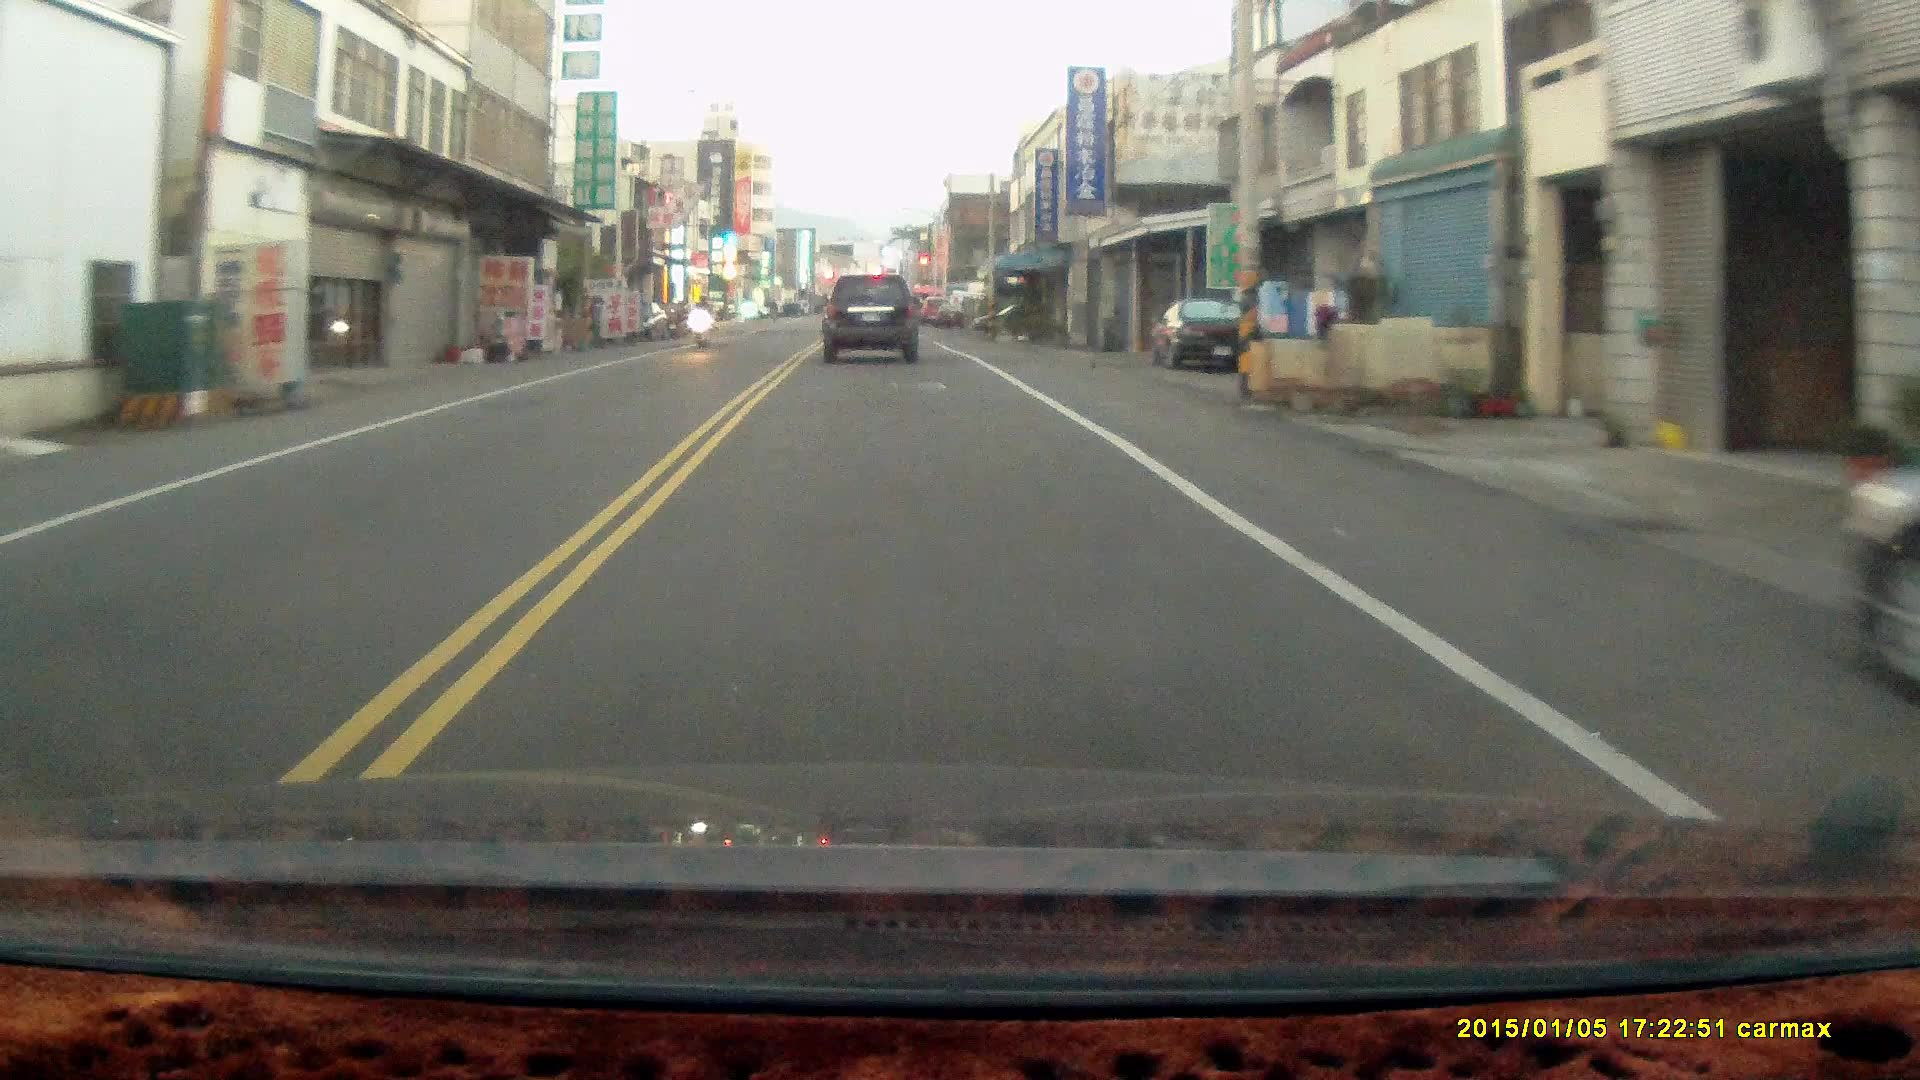rider: (683, 292, 711, 349)
vehicle: (823, 276, 923, 368), (1153, 299, 1268, 378)
